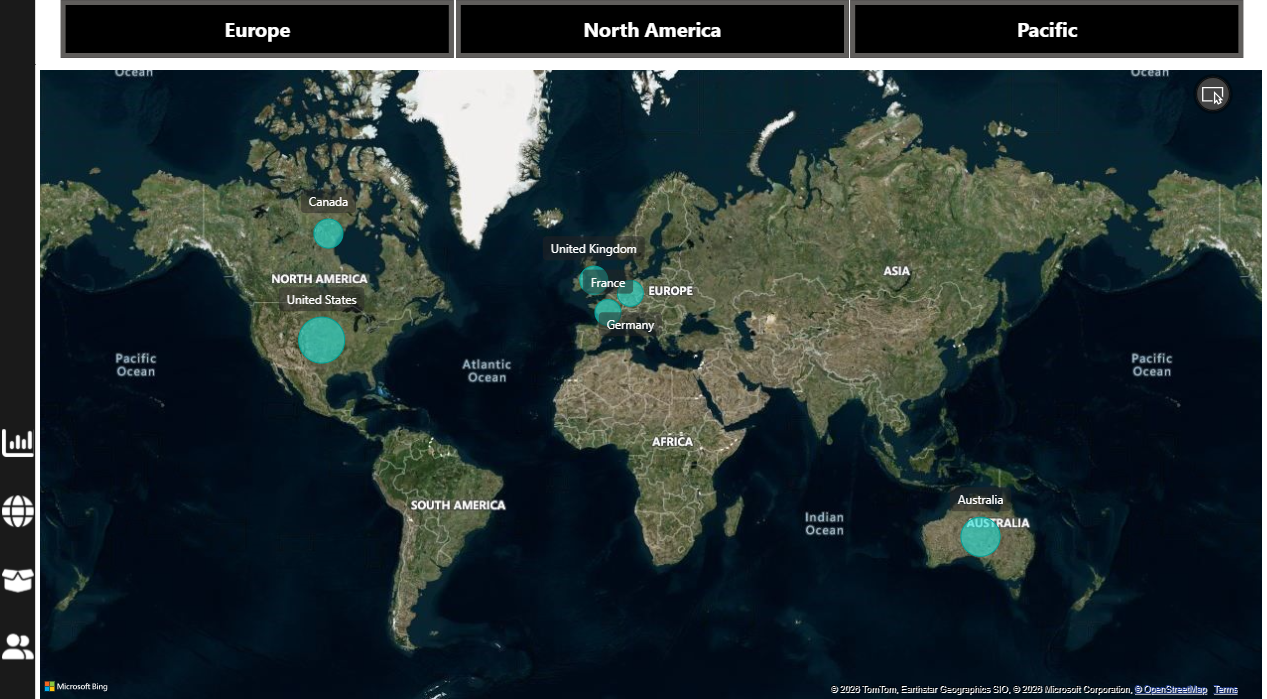

This screenshot's page, from the dashboard's own definition file:
{"tool":"powerbi","page":{"name":"Map","canvas":[1280,720],"ordinal":2},"visuals":[{"type":"shape","box":[0,0,38.1,719],"z":0},{"type":"actionButton","box":[0,431.7,40,45.2],"z":0,"group":"g1"},{"type":"map","fields":{"Category":["Territory Lookup.Country"],"Size":["Measure Table.Total Orders"]},"box":[38,72,1242,646],"z":1000},{"type":"actionButton","box":[0,569.8,40,45.2],"z":1000,"group":"g1"},{"type":"slicer","fields":{"Values":["Territory Lookup.Continent"]},"box":[38,0,1242,72],"z":2000},{"type":"actionButton","box":[0,500.8,40,45.2],"z":2000,"group":"g1"},{"type":"actionButton","box":[0,638.3,55,40],"z":3000},{"type":"group","id":"g1","title":"Group 1","box":[0,431.7,40,183.3],"z":4000}]}

Visuals, with their boxes in screenshot pixels (x1, y1, x2, y2):
shape: {"x1": 0, "y1": 0, "x2": 33, "y2": 686}
actionButton: {"x1": 0, "y1": 410, "x2": 35, "y2": 454}
map - Territory Lookup.Country x Measure Table.Total Orders: {"x1": 33, "y1": 66, "x2": 1223, "y2": 685}
actionButton: {"x1": 0, "y1": 543, "x2": 35, "y2": 586}
slicer - Territory Lookup.Continent: {"x1": 33, "y1": 0, "x2": 1223, "y2": 66}
actionButton: {"x1": 0, "y1": 477, "x2": 35, "y2": 520}
actionButton: {"x1": 0, "y1": 608, "x2": 49, "y2": 647}
"Group 1" group: {"x1": 0, "y1": 410, "x2": 35, "y2": 586}
